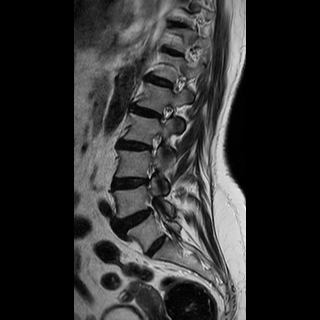LFS0: (153, 101, 178, 129), (142, 132, 167, 159)
